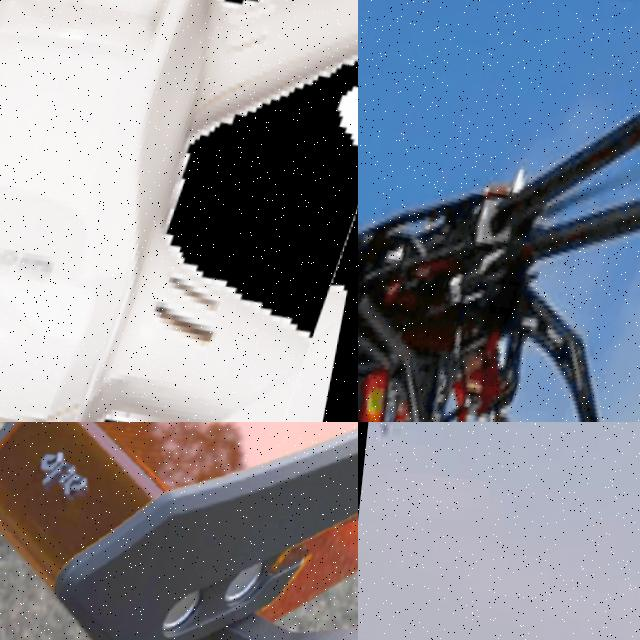drone: (0, 0, 358, 422), (358, 0, 640, 422), (0, 422, 358, 640)
